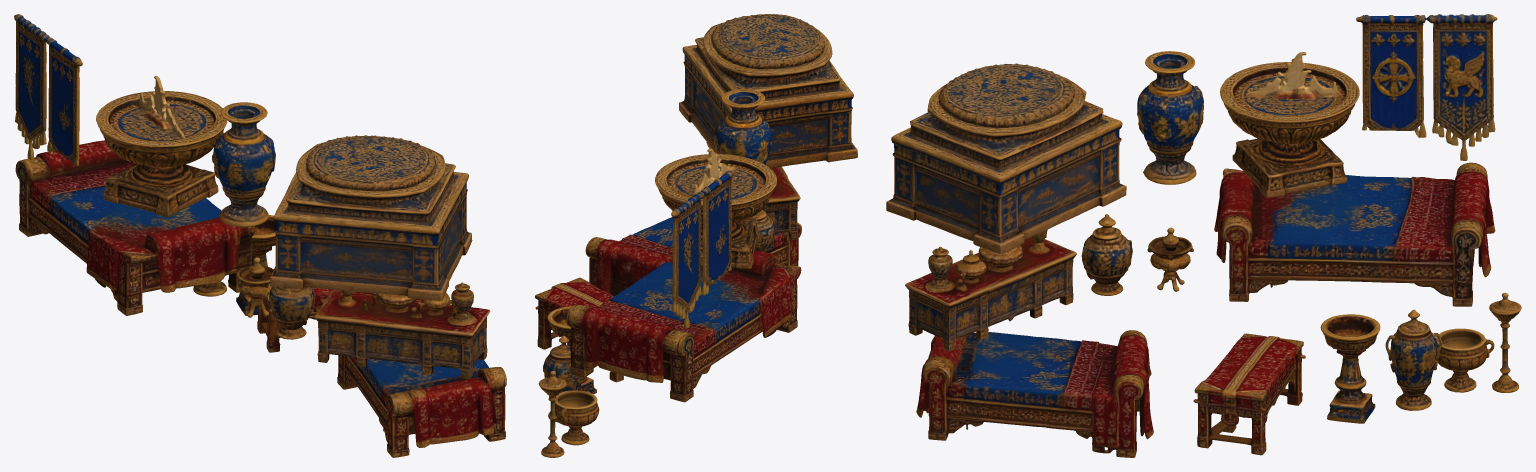
The model's file is مجموعة غراض.glb.
3 views of the same model, side by side, from view 1: azimuth 30°, elevation 25°; view 2: azimuth 150°, elevation 25°; view 3: azimuth 270°, elevation 25° (orthographic). The views are drawn at different scales.
Visible parts, largest first — view 1: world; view 2: world; view 3: world.
Part boxes in pixels (x1=…): world: x1=14, y1=14, x2=506, y2=457; world: x1=535, y1=14, x2=857, y2=457; world: x1=886, y1=14, x2=1521, y2=457.
Bounding box in the file's own units: 0.5355 × 0.5351 × 0.9998.
Materials: 1 (1 with a texture image).
